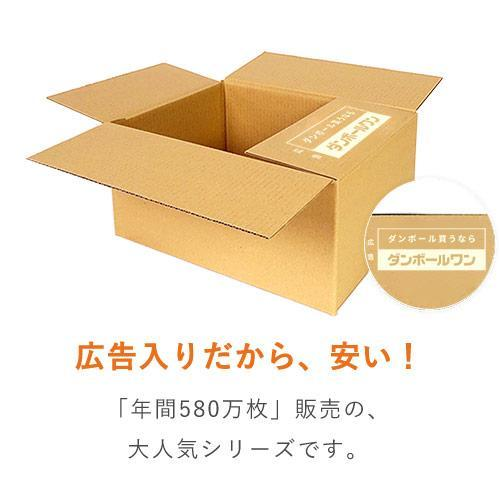box: (22, 51, 428, 317)
